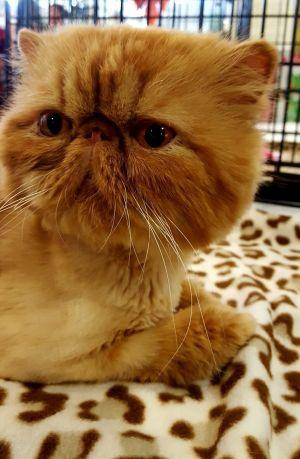persian: (1, 9, 285, 265)
